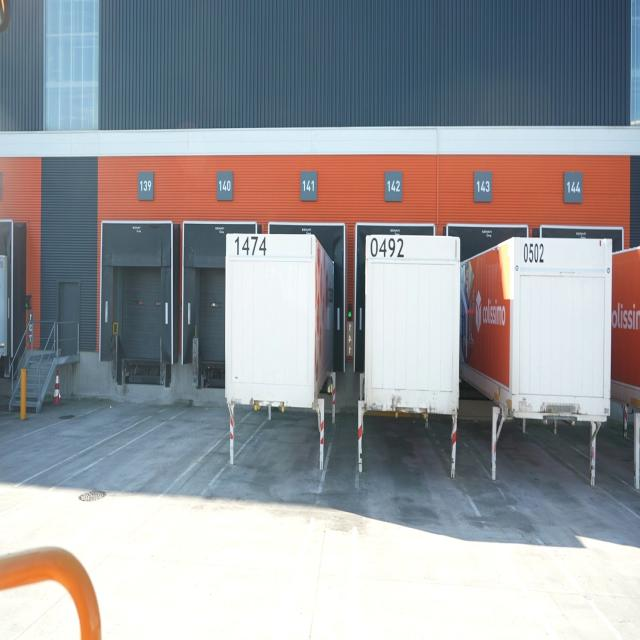Code: (232, 230, 271, 260), (368, 234, 407, 262), (517, 238, 546, 268)
